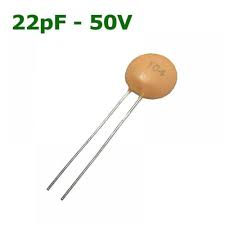ceramic capacitor: (73, 38, 205, 145)
